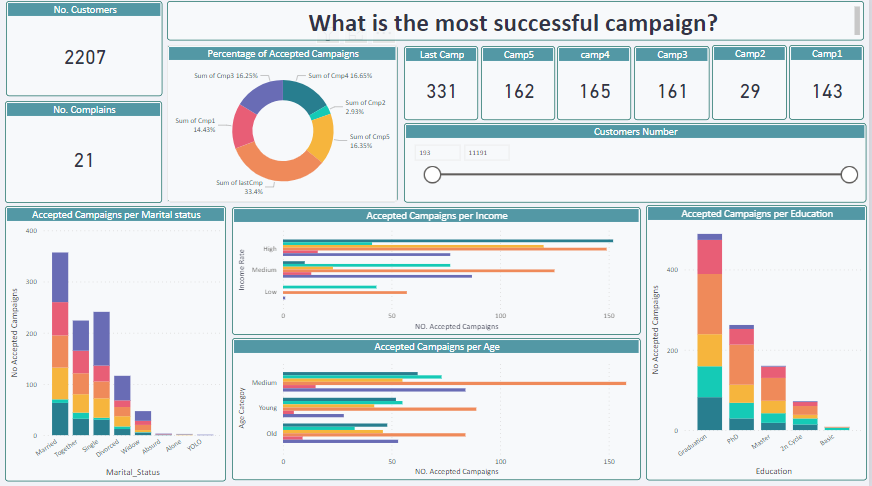

What the dashboard file says about the page in this screenshot:
{"tool":"powerbi","page":{"name":"Page 1","canvas":[1280,720],"ordinal":0},"visuals":[{"type":"card","title":"No. Customers","fields":{"Values":["CountNonNull(marketing_campaign_cleanData.ID)"]},"box":[9.6,6,230.4,139.9],"z":0},{"type":"donutChart","title":"Percentage of Accepted Campaigns","fields":{"Y":["Sum(marketing_campaign_cleanData.AcceptedCmp4)","Sum(marketing_campaign_cleanData.AcceptedCmp2)","Sum(marketing_campaign_cleanData.AcceptedCmp5)","Sum(marketing_campaign_cleanData.Response)","Sum(marketing_campaign_cleanData.AcceptedCmp1)","Sum(marketing_campaign_cleanData.AcceptedCmp3)"]},"box":[246.3,70.2,339.2,230.9],"z":1000},{"type":"textbox","box":[246.3,6,1024.7,58.3],"z":2000},{"type":"card","title":"Camp2","fields":{"Values":["Sum(marketing_campaign_cleanData.AcceptedCmp2)"]},"box":[1048,71.2,109.7,109.7],"z":3000},{"type":"card","title":"Camp1","fields":{"Values":["Sum(marketing_campaign_cleanData.AcceptedCmp1)"]},"box":[1161.4,71.2,109.7,109.7],"z":4000},{"type":"card","title":"Last Camp","fields":{"Values":["Sum(marketing_campaign_cleanData.Response)"]},"box":[595,71.4,109.5,109.5],"z":5000},{"type":"card","title":"Camp5","fields":{"Values":["Sum(marketing_campaign_cleanData.AcceptedCmp5)"]},"box":[708.1,71.4,109.5,109.5],"z":6000},{"type":"card","title":"camp4","fields":{"Values":["Sum(marketing_campaign_cleanData.AcceptedCmp4)"]},"box":[821.2,71.4,109.5,109.5],"z":7000},{"type":"card","title":"Camp3","fields":{"Values":["Sum(marketing_campaign_cleanData.AcceptedCmp3)"]},"box":[934.2,71.4,110.7,109.5],"z":8000},{"type":"card","title":"No. Complains","fields":{"Values":["Sum(marketing_campaign_cleanData.Complain)"]},"box":[9.5,152.3,230.9,150],"z":9000},{"type":"slicer","title":"Customers Number","fields":{"Values":["marketing_campaign_cleanData.ID"]},"box":[595,185.7,679.5,116.6],"z":10000},{"type":"columnChart","title":"Accepted Campaigns per Marital  status","fields":{"Category":["marketing_campaign_cleanData.Marital_Status"],"Y":["Sum(marketing_campaign_cleanData.Cmp1)","Sum(marketing_campaign_cleanData.Cmp2)","Sum(marketing_campaign_cleanData.Cmp3)","Sum(marketing_campaign_cleanData.Cmp4)","Sum(marketing_campaign_cleanData.Cmp5)","Sum(marketing_campaign_cleanData.lastCmp)"]},"box":[9.5,307,325,405],"z":11000},{"type":"columnChart","title":"Accepted Campaigns per Education","fields":{"Category":["marketing_campaign_cleanData.Education"],"Y":["Sum(marketing_campaign_cleanData.Cmp1)","Sum(marketing_campaign_cleanData.Cmp3)","Sum(marketing_campaign_cleanData.Cmp4)","Sum(marketing_campaign_cleanData.lastCmp)","Sum(marketing_campaign_cleanData.Cmp5)","Sum(marketing_campaign_cleanData.Cmp2)"]},"box":[952.1,305.9,325,405],"z":12000},{"type":"clusteredBarChart","title":"Accepted Campaigns per Age","fields":{"Category":["marketing_campaign_cleanData.AgeCategory"],"Y":["Sum(marketing_campaign_cleanData.Cmp5)","Sum(marketing_campaign_cleanData.Cmp3)","Sum(marketing_campaign_cleanData.Cmp1)","Sum(marketing_campaign_cleanData.lastCmp)","Sum(marketing_campaign_cleanData.Cmp2)","Sum(marketing_campaign_cleanData.Cmp4)"]},"box":[342.7,501,601,209.5],"z":13000},{"type":"clusteredBarChart","title":"Accepted Campaigns per Income","fields":{"Category":["marketing_campaign_cleanData.IncomeRate"],"Y":["Sum(marketing_campaign_cleanData.Cmp5)","Sum(marketing_campaign_cleanData.Cmp3)","Sum(marketing_campaign_cleanData.Cmp1)","Sum(marketing_campaign_cleanData.lastCmp)","Sum(marketing_campaign_cleanData.Cmp2)","Sum(marketing_campaign_cleanData.Cmp4)"]},"box":[342.7,308.2,601,188],"z":14000}]}

Visuals, with their boxes in screenshot pixels (x1, y1, x2, y2), scaled from the page's 1280x720 canvas onto the 872x486 screenshot:
"No. Customers" card: 7:4:164:98
"Percentage of Accepted Campaigns" donutChart: 168:47:399:203
textbox: 168:4:866:43
"Camp2" card: 714:48:789:122
"Camp1" card: 791:48:866:122
"Last Camp" card: 405:48:480:122
"Camp5" card: 482:48:557:122
"camp4" card: 559:48:634:122
"Camp3" card: 636:48:712:122
"No. Complains" card: 6:103:164:204
"Customers Number" slicer: 405:125:868:204
"Accepted Campaigns per Marital  status" columnChart: 6:207:228:481
"Accepted Campaigns per Education" columnChart: 649:206:870:480
"Accepted Campaigns per Age" clusteredBarChart: 233:338:643:480
"Accepted Campaigns per Income" clusteredBarChart: 233:208:643:335
